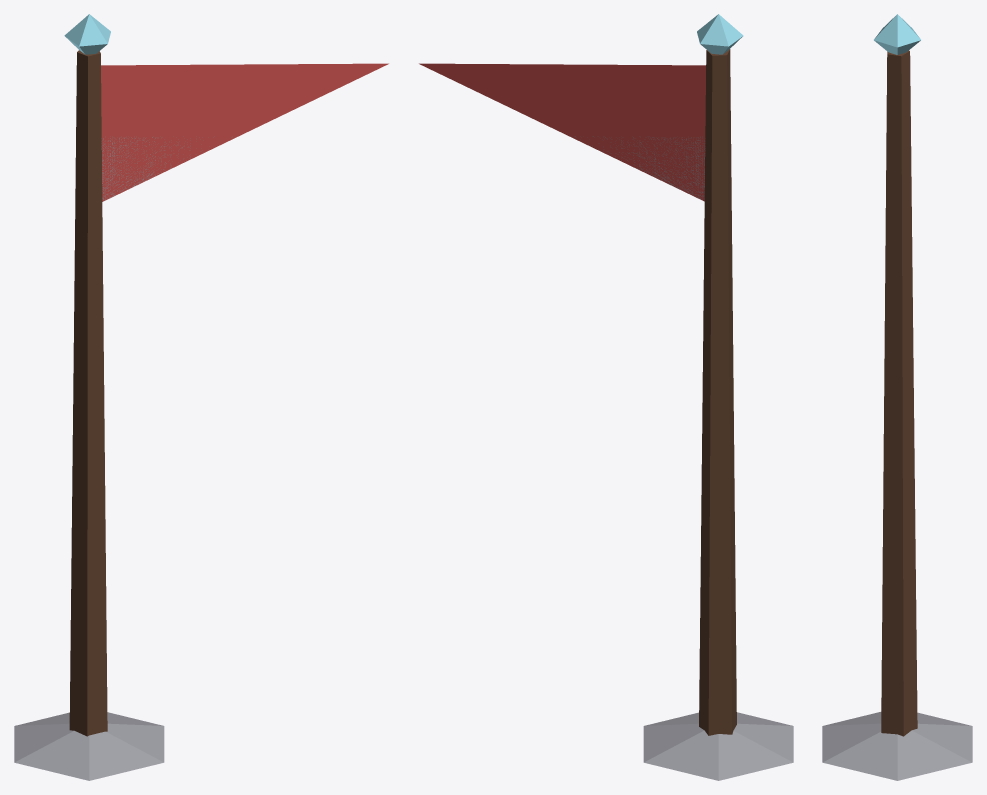
File: deco_flag.obj
The picture shows the model from 3 angles, left to right: view 1: azimuth 30°, elevation 25°; view 2: azimuth 150°, elevation 25°; view 3: azimuth 270°, elevation 25°; orthographic projection.
Parts seen in each view (by area): view 1: deco_flag; view 2: deco_flag; view 3: deco_flag.
Boxes of the visible parts, x1,y1,x2,y2 form: deco_flag: (14, 14, 388, 780); deco_flag: (419, 14, 793, 780); deco_flag: (822, 14, 972, 780).
Bounding box in the file's own units: 0.0275 × 0.0526 × 0.00952.
1 material, 1 textured.
